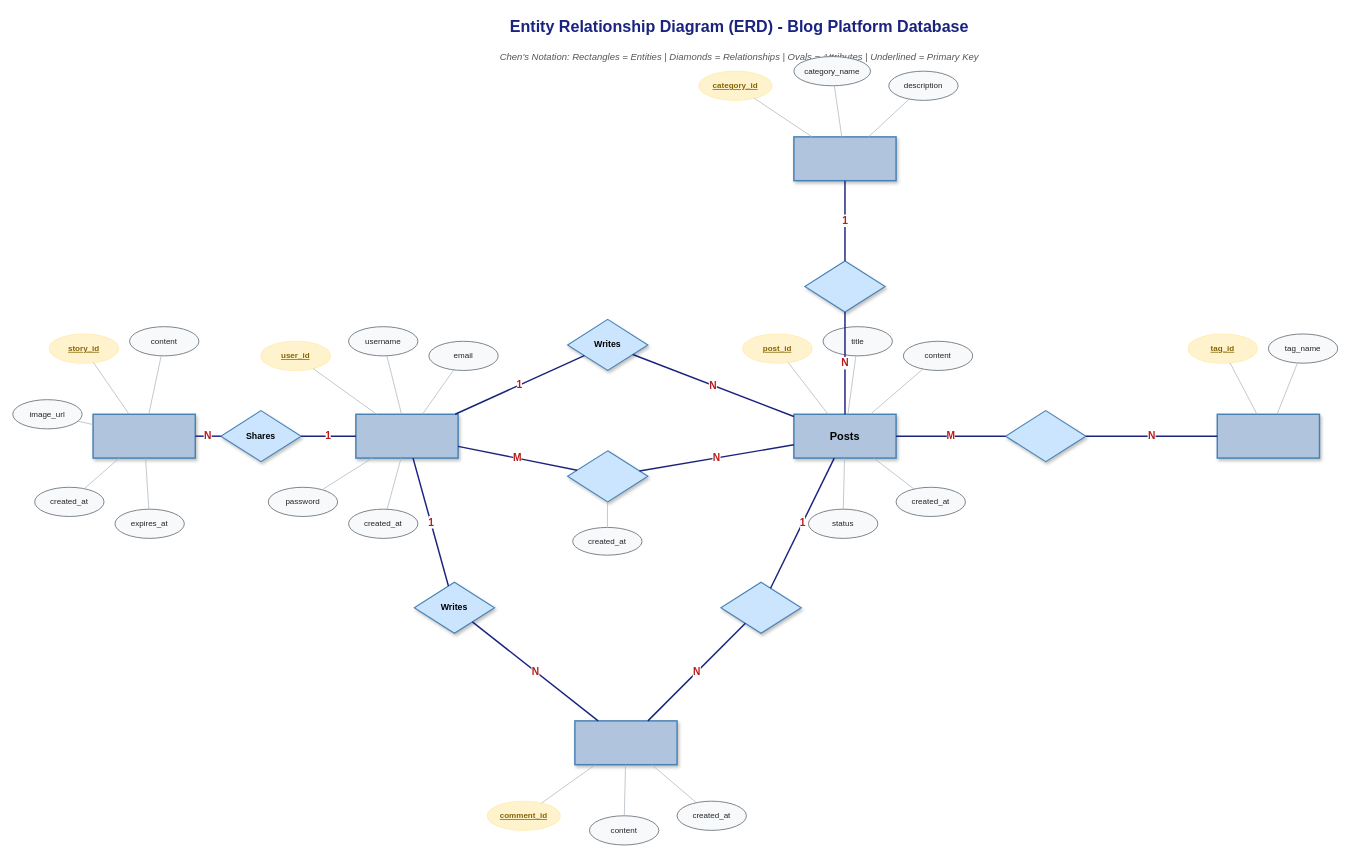
The diagram is 1351 pixels wide and 858 high, and some of its shapes have lost their labels. Here are the shapes that lost their labels. From the top down, the centre of each, then its label:
At (x=845, y=159): "Categories".
At (x=845, y=287): "Belongs_To".
At (x=144, y=437): "Stories".
At (x=407, y=437): "Users".
At (x=1046, y=437): "Has_Tag".
At (x=1268, y=437): "Tags".
At (x=608, y=477): "Likes".
At (x=761, y=608): "Has".
At (x=626, y=743): "Comments".
